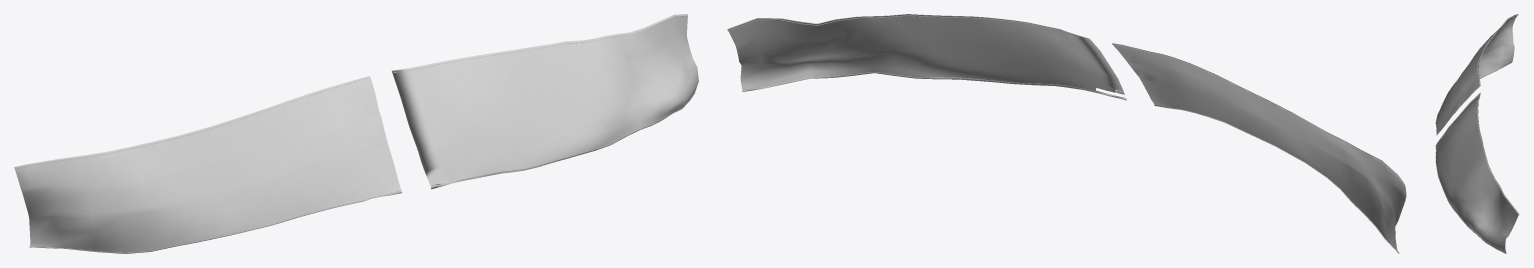
Rendered from Jac_COP_FACE.glb.
The picture shows the model from 3 angles, left to right: view 1: azimuth 30°, elevation 25°; view 2: azimuth 150°, elevation 25°; view 3: azimuth 270°, elevation 25°; orthographic projection. The views are drawn at different scales.
Visible parts, largest first — view 1: Jac_COP_FACE1, Rope1; view 2: Jac_COP_FACE1, Rope1; view 3: Jac_COP_FACE1, Rope1.
Part boxes in pixels (x1=…): Jac_COP_FACE1: x1=14, y1=14, x2=698, y2=253; Rope1: x1=16, y1=15, x2=695, y2=253; Jac_COP_FACE1: x1=727, y1=14, x2=1406, y2=252; Rope1: x1=727, y1=15, x2=1402, y2=253; Jac_COP_FACE1: x1=1435, y1=14, x2=1519, y2=253; Rope1: x1=1435, y1=15, x2=1518, y2=253.
Size of the model in its own units: 0.709 by 0.1184 by 0.1303.
Materials: 2 (2 with a texture image).
